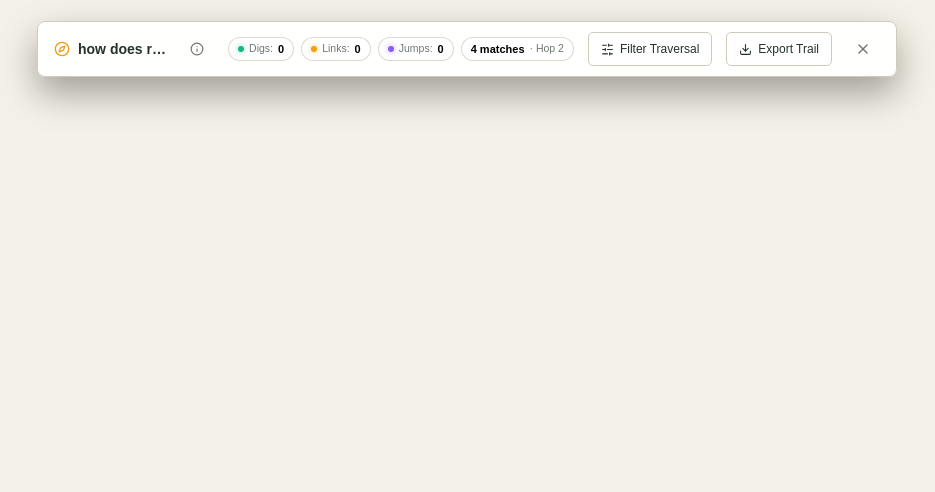
Scenario: CrawlResultsCanvas › filters crawl branches interactively with multiselect edge keywords computing union
// Open filter drawer
Click the button "Filter Traversal".
click(650, 49)  # box x1=588 y1=32 x2=712 y2=66
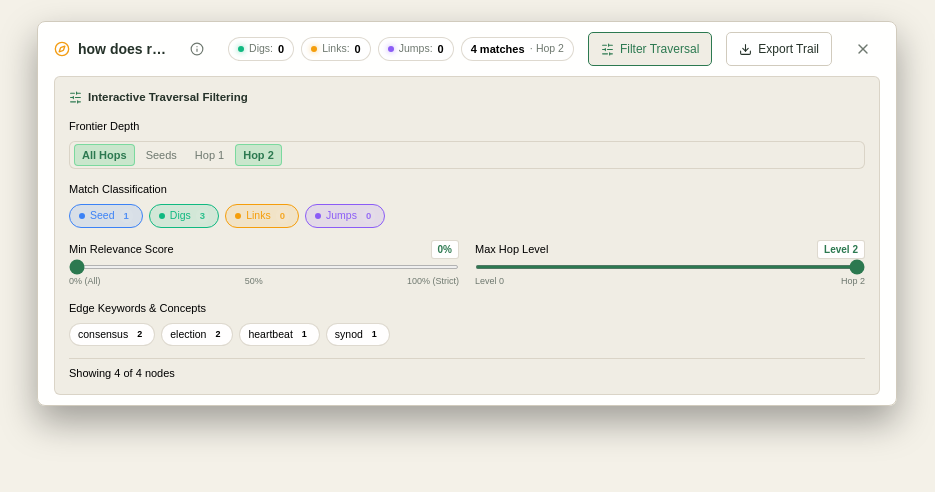
Check: the text "Edge Keywords & Concepts" is shown, box x1=69 y1=300 x2=206 y2=316
Check: the button titled "Filter branches by keyword \"synod\"" is shown
// Filter by "synod": only Base Algorithms and Paxos Branch should survive
Click the button titled "Filter branches by keyword \"synod\"".
click(358, 334)  # box x1=326 y1=322 x2=390 y2=346
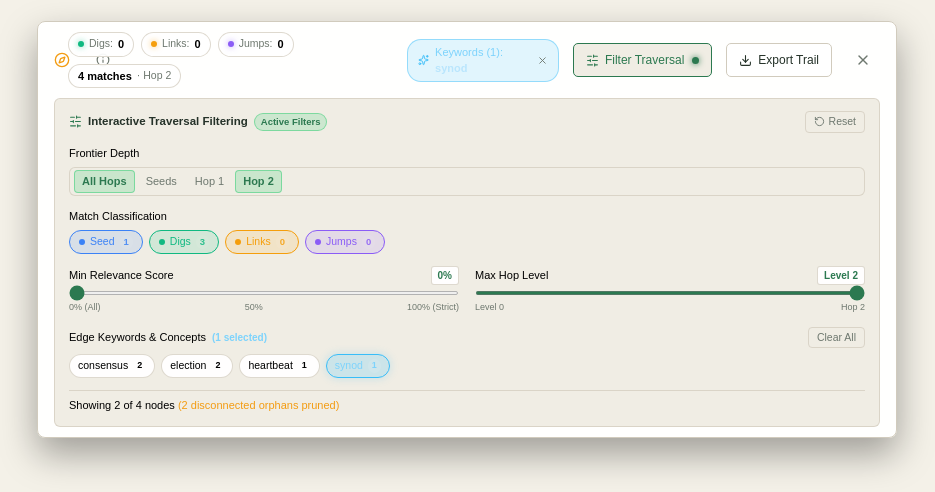
Check: the element with class "crawl-active-keyword-chip" is shown, box x1=407 y1=38 x2=559 y2=82
Check: the element with class "crawl-active-keyword-chip" shows "synod", box x1=435 y1=62 x2=468 y2=74
Click the button titled "Filter branches by keyword \"election\"".
click(197, 366)  # box x1=161 y1=354 x2=233 y2=378
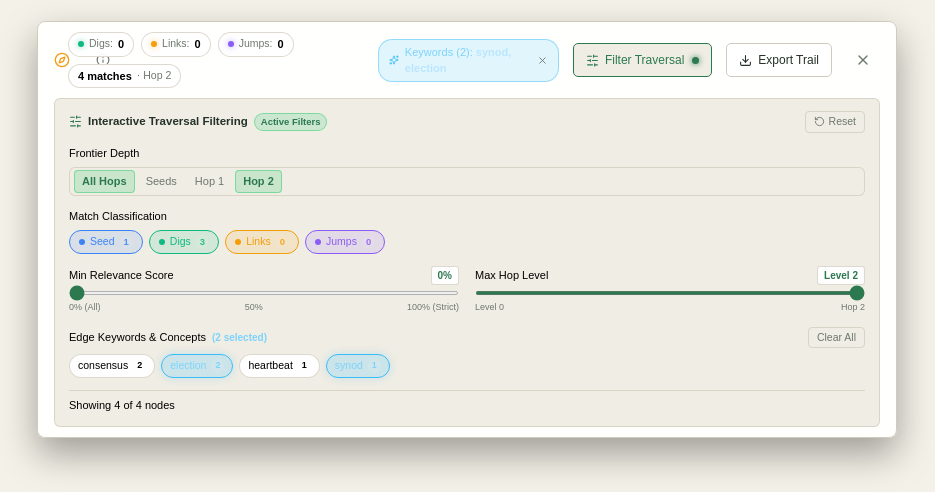
Check: the element with class "crawl-active-keyword-chip" shows "Keywords (2)", box x1=378 y1=38 x2=559 y2=82
Click the button named "Clear keyword filters".
click(542, 60)  # box x1=537 y1=54 x2=548 y2=66
(page scrolled)
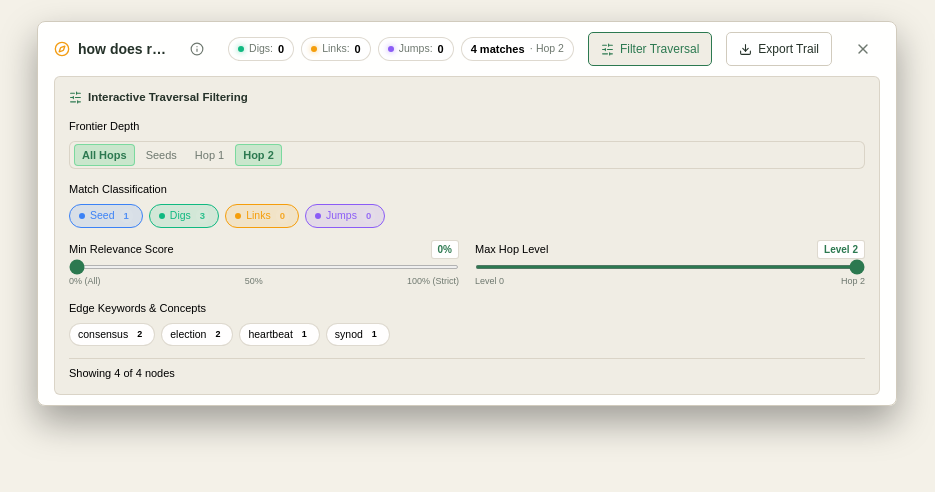
Check: the element with class "crawl-active-keyword-chip" is gone
